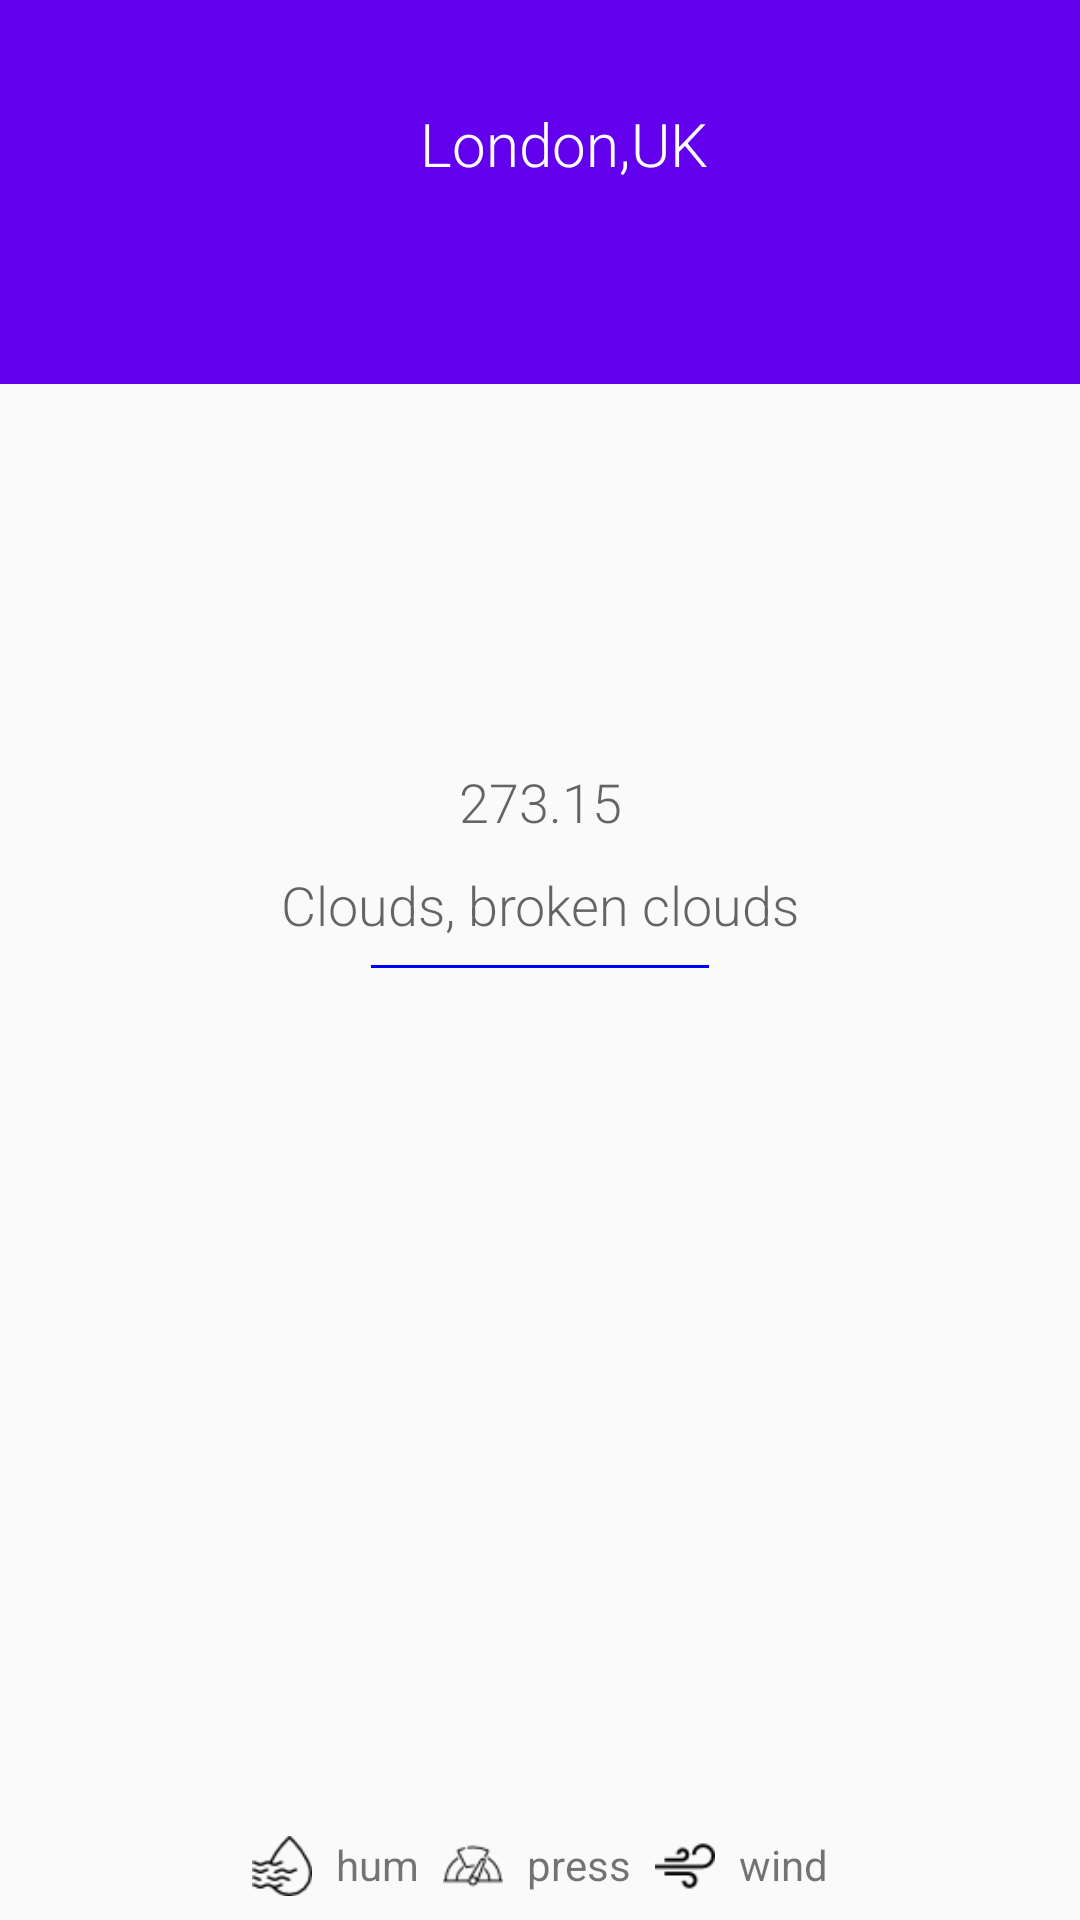

Named icons in this screenshot (1080px×1920px) and their bounding boxes, (left=x1, top=y1, right=x2, bottom=y2):
gauge: (left=443, top=1845, right=503, bottom=1887)
humidity: (left=252, top=1836, right=312, bottom=1896)
